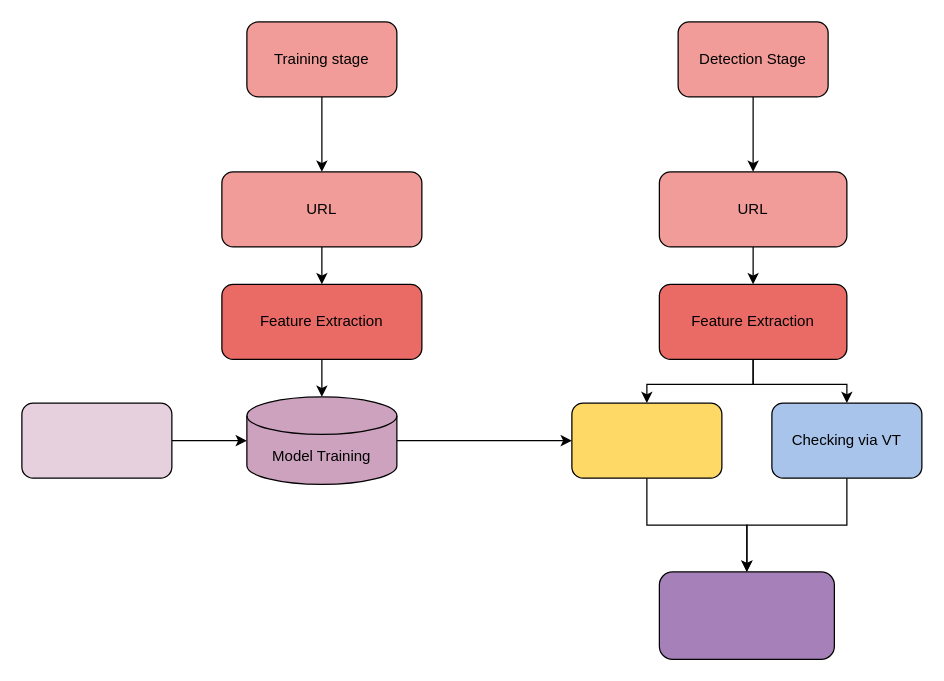
The diagram is 944 pixels wide and 681 high, and some of its shapes have lost their labels. The shapes that lost their labels are listed below. From the top down, each one's centre as x and y in pixels, then its label:
At pixel 96 440: "ML algorithm".
At pixel 646 440: "Classification/Testing".
At pixel 746 615: "Verdict (malicious/legitimate)".
